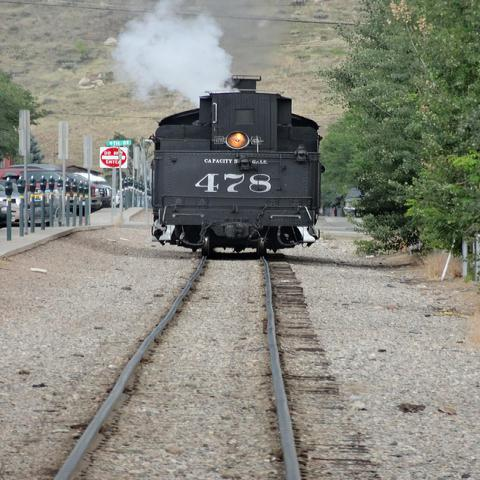car: (0, 167, 70, 207), (54, 170, 111, 208), (2, 199, 30, 221), (0, 201, 16, 228)
